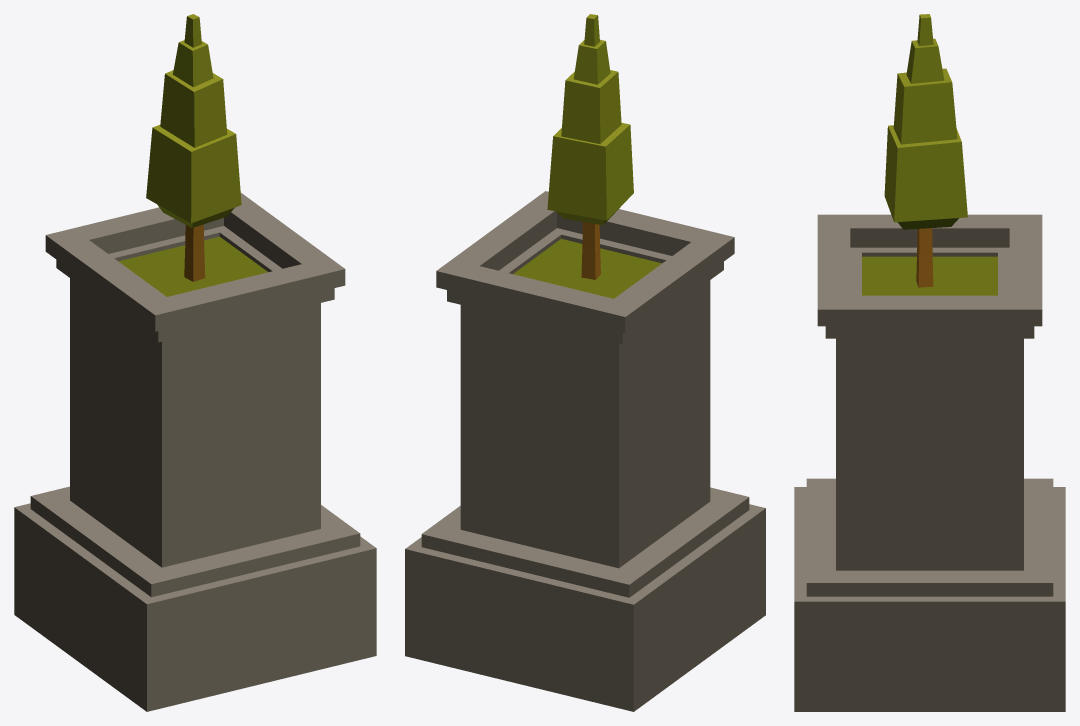
Rendered from SF_Bld_Elven_Castle_Wall_Tree_01.fbx.
The picture shows the model from 3 angles, left to right: view 1: azimuth 30°, elevation 25°; view 2: azimuth 150°, elevation 25°; view 3: azimuth 270°, elevation 25°; orthographic projection. The views are drawn at different scales.
Visible parts, largest first — view 1: SF_Bld_Elven_Castle_Wall_Tree_01; view 2: SF_Bld_Elven_Castle_Wall_Tree_01; view 3: SF_Bld_Elven_Castle_Wall_Tree_01.
Boxes of the visible parts, x1,y1,x2,y2 form: SF_Bld_Elven_Castle_Wall_Tree_01: (14, 14, 376, 711); SF_Bld_Elven_Castle_Wall_Tree_01: (405, 14, 765, 711); SF_Bld_Elven_Castle_Wall_Tree_01: (794, 14, 1065, 711).
Size of the model in its own units: 6.69 by 17.28 by 6.69.
